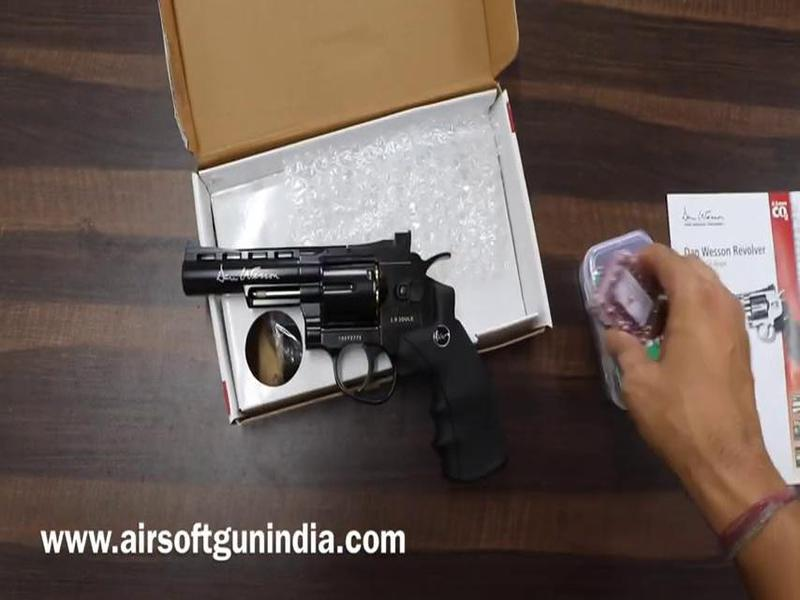Revolver: (168, 215, 518, 496)
